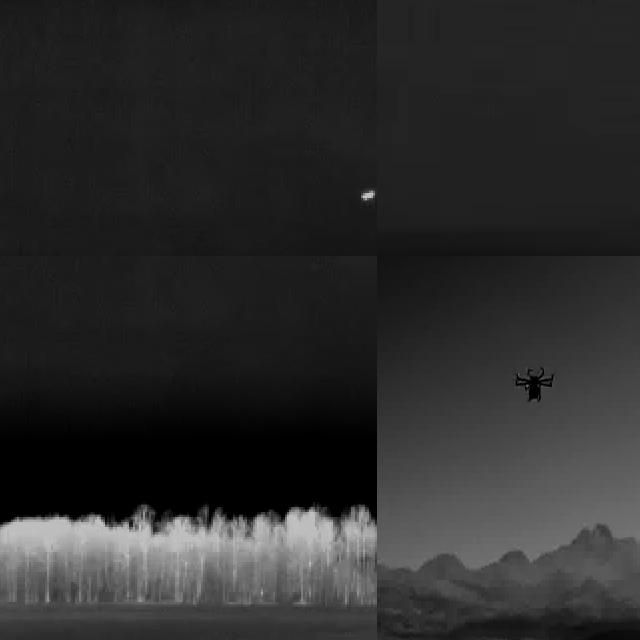1: (352, 183, 377, 213)
drone: (515, 359, 559, 412)
